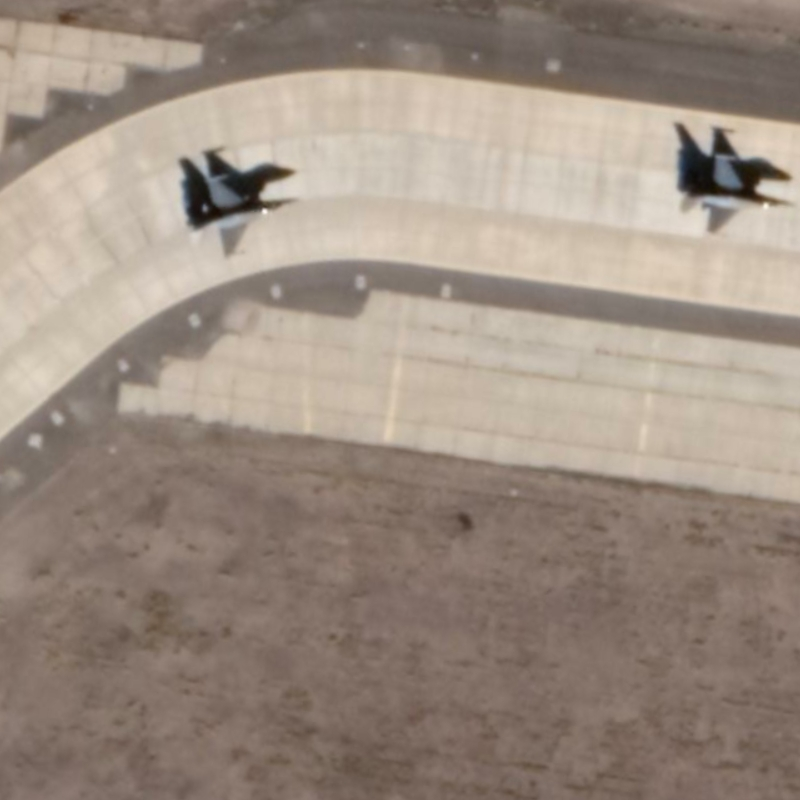A5: (676, 144, 795, 236), (187, 166, 292, 267)
